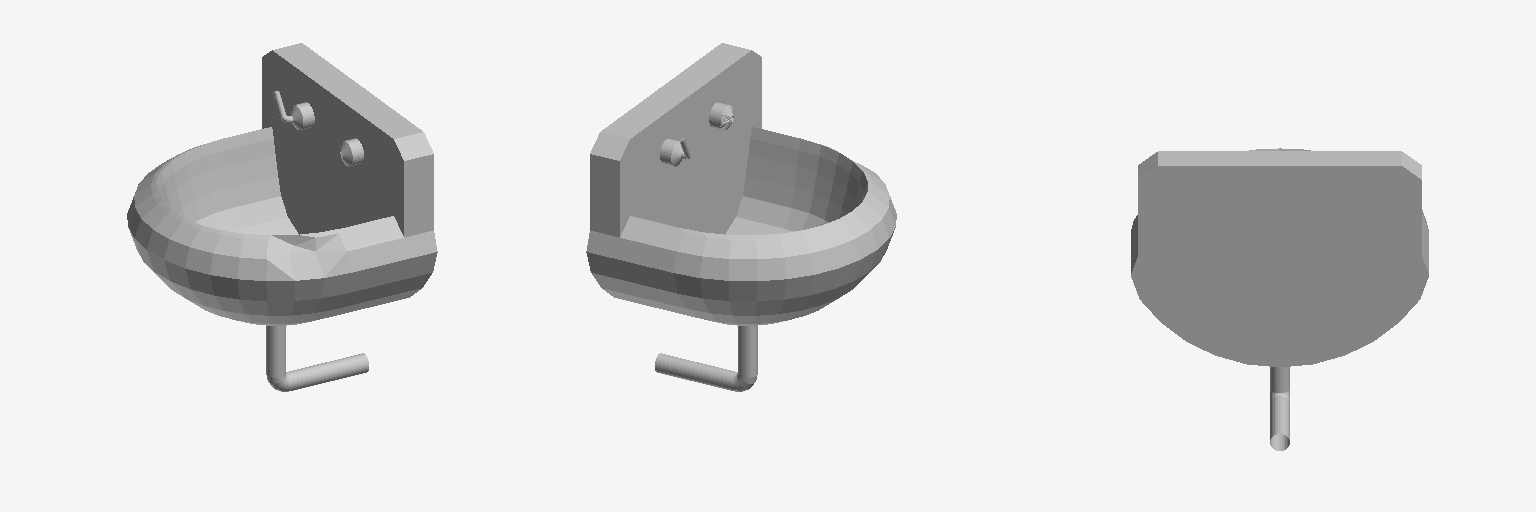
Rendered from Lavabo.obj.
3 views of the same model, side by side, from view 1: azimuth 30°, elevation 25°; view 2: azimuth 150°, elevation 25°; view 3: azimuth 270°, elevation 25° (orthographic).
Bounding box in the file's own units: 0.6196 × 0.7724 × 0.7337.